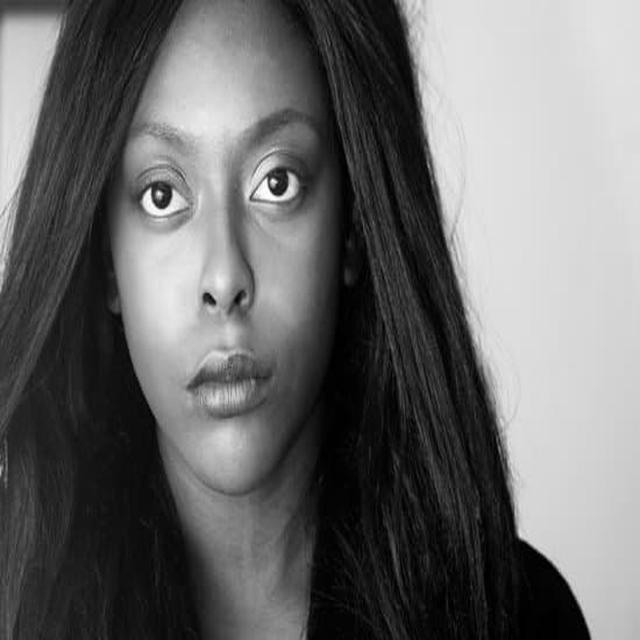Sadness: (116, 5, 335, 497)
